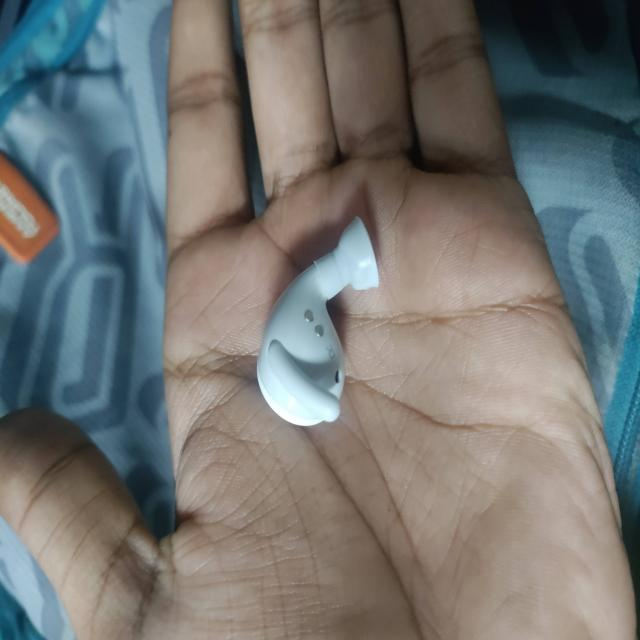plastic: (240, 213, 412, 430)
